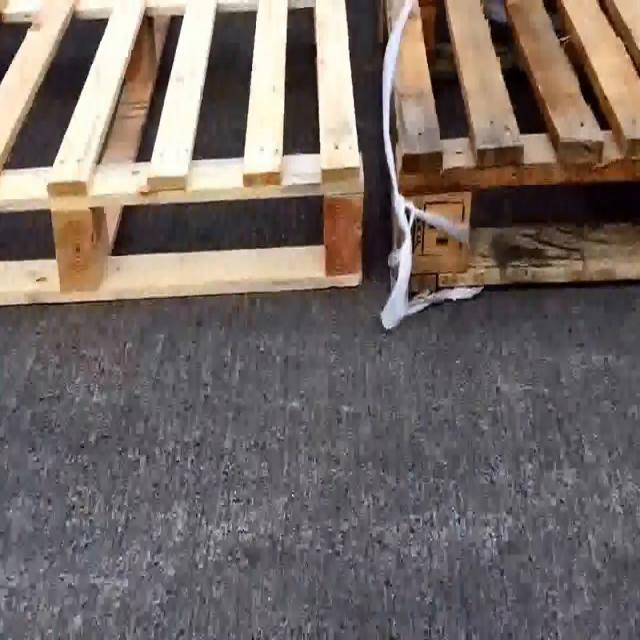Palette: (0, 0, 373, 321), (380, 0, 640, 290)
